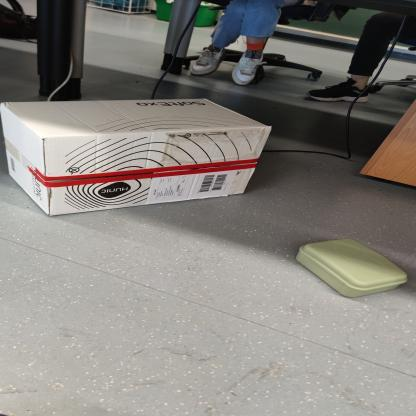-: (0, 82, 281, 227), (287, 226, 416, 321)
